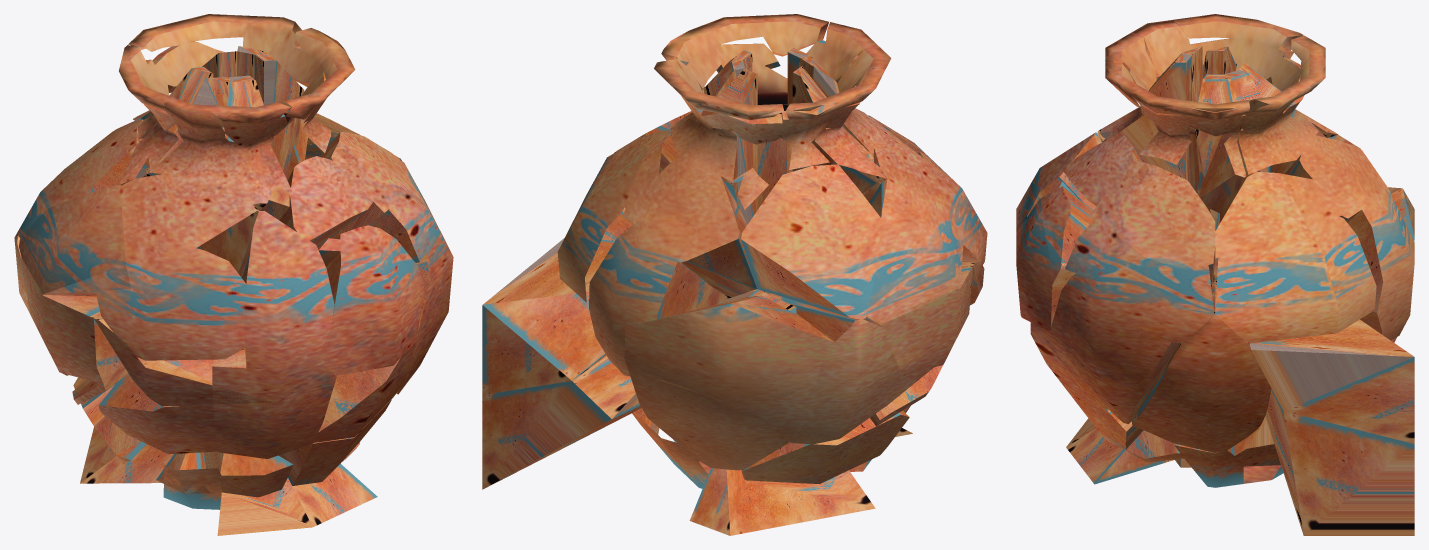
The model's file is vase1.fbx.
3 views of the same model, side by side, from view 1: azimuth 30°, elevation 25°; view 2: azimuth 150°, elevation 25°; view 3: azimuth 270°, elevation 25° (orthographic). The views are drawn at different scales.
Visible parts, largest first — view 1: vase (1)_cell.060, vase (1)_cell.017, vase (1)_cell.001, vase (1)_cell.046, vase (1)_cell.026, vase (1)_cell.050, vase (1)_cell.055, vase (1)_cell.079, vase (1)_cell.043, vase (1)_cell.076, vase (1)_cell.009, vase (1)_cell.006 (+38 smaller); view 2: vase (1)_cell.078, vase (1)_cell.035, vase (1)_cell.005, vase (1)_cell.037, vase (1)_cell.056, vase (1)_cell.026, vase (1)_cell.047, vase (1)_cell.072, vase (1)_cell.062, vase (1)_cell.011, vase (1)_cell.055, vase (1)_cell.038 (+33 smaller); view 3: vase (1)_cell.037, vase (1)_cell.005, vase (1)_cell.058, vase (1)_cell.038, vase (1)_cell.041, vase (1)_cell.009, vase (1)_cell.010, vase (1)_cell.017, vase (1)_cell.056, vase (1)_cell.033, vase (1)_cell.039, vase (1)_cell.072 (+41 smaller).
Boxes of the visible parts, x1,y1,x2,y2 form: vase (1)_cell.060: (95,236,278,360); vase (1)_cell.017: (318,225,424,375); vase (1)_cell.001: (244,211,334,369); vase (1)_cell.046: (212,348,336,458); vase (1)_cell.026: (19,185,130,296); vase (1)_cell.050: (105,174,258,277); vase (1)_cell.055: (21,257,122,384); vase (1)_cell.079: (98,373,270,454); vase (1)_cell.043: (241,156,373,283); vase (1)_cell.076: (94,316,272,406); vase (1)_cell.009: (317,131,415,249); vase (1)_cell.006: (313,327,415,442); vase (1)_cell.078: (624,292,851,470); vase (1)_cell.035: (741,164,881,319); vase (1)_cell.005: (482,238,614,394); vase (1)_cell.037: (482,289,765,489); vase (1)_cell.056: (589,217,726,376); vase (1)_cell.026: (866,179,965,323); vase (1)_cell.047: (777,295,933,444); vase (1)_cell.072: (623,158,757,298); vase (1)_cell.062: (689,468,875,535); vase (1)_cell.011: (741,410,909,483); vase (1)_cell.055: (863,265,972,375); vase (1)_cell.038: (570,143,649,260); vase (1)_cell.037: (1265,388,1414,535); vase (1)_cell.005: (1242,295,1414,443); vase (1)_cell.058: (1131,280,1271,452); vase (1)_cell.038: (1216,188,1369,314); vase (1)_cell.041: (1050,268,1198,423); vase (1)_cell.009: (1089,160,1215,288); vase (1)_cell.010: (1065,220,1214,314); vase (1)_cell.017: (1016,186,1093,331); vase (1)_cell.056: (1348,170,1414,340); vase (1)_cell.033: (1217,269,1376,343); vase (1)_cell.039: (1068,275,1213,343); vase (1)_cell.072: (1285,135,1390,222).
Size of the model in its own units: 17619 by 17850 by 16757.
